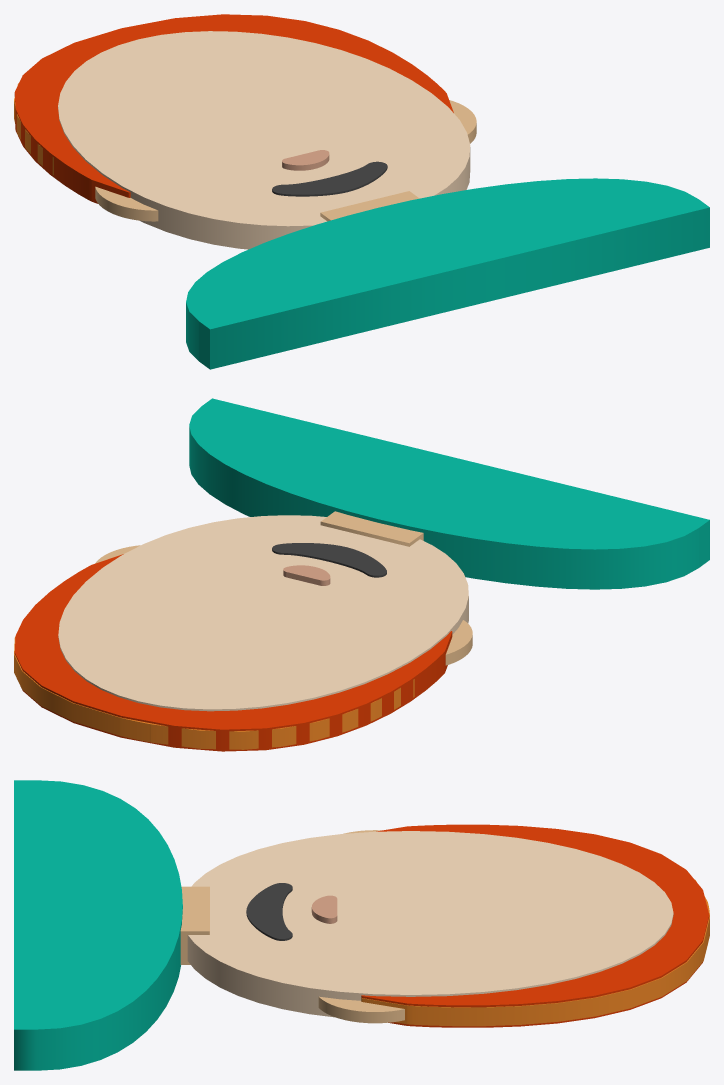
The model's file is emoji_u1f468_1f3fb_200d_1f9b0.glb.
3 views of the same model, one above another, from view 1: azimuth 30°, elevation 25°; view 2: azimuth 150°, elevation 25°; view 3: azimuth 270°, elevation 25° (orthographic). The views are drawn at different scales.
Parts seen in each view (by area): view 1: emoji_u1f468_1f3fb_200d_1f9b0; view 2: emoji_u1f468_1f3fb_200d_1f9b0; view 3: emoji_u1f468_1f3fb_200d_1f9b0.
Boxes of the visible parts, x1,y1,x2,y2 form: emoji_u1f468_1f3fb_200d_1f9b0: (14,14,709,369); emoji_u1f468_1f3fb_200d_1f9b0: (14,398,709,751); emoji_u1f468_1f3fb_200d_1f9b0: (14,780,709,1070).
Size of the model in its own units: 0.0286 by 0.0022 by 0.0337.
